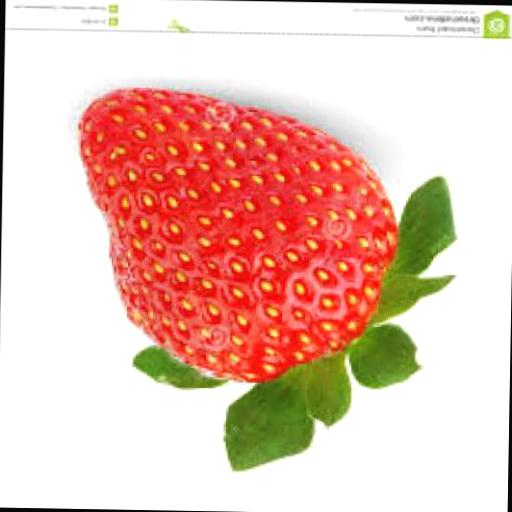biodegradable: (71, 87, 463, 478)
